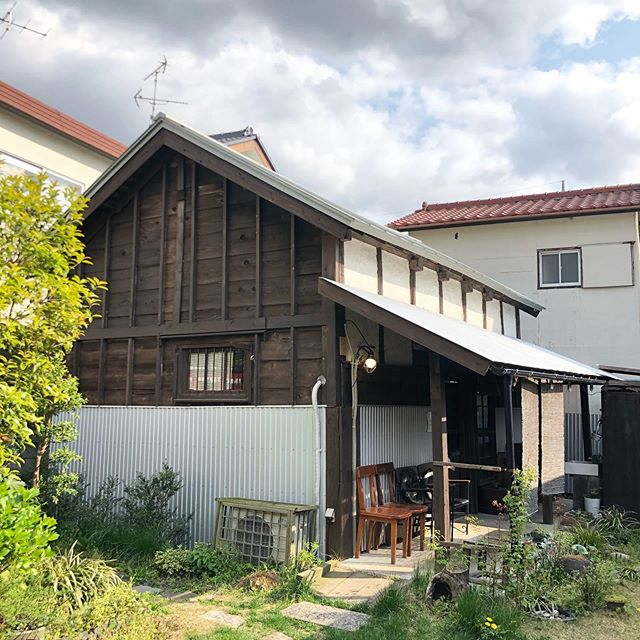building: (52, 122, 588, 543), (409, 180, 640, 350)
chair: (357, 456, 431, 542)
sky: (5, 1, 640, 174)
